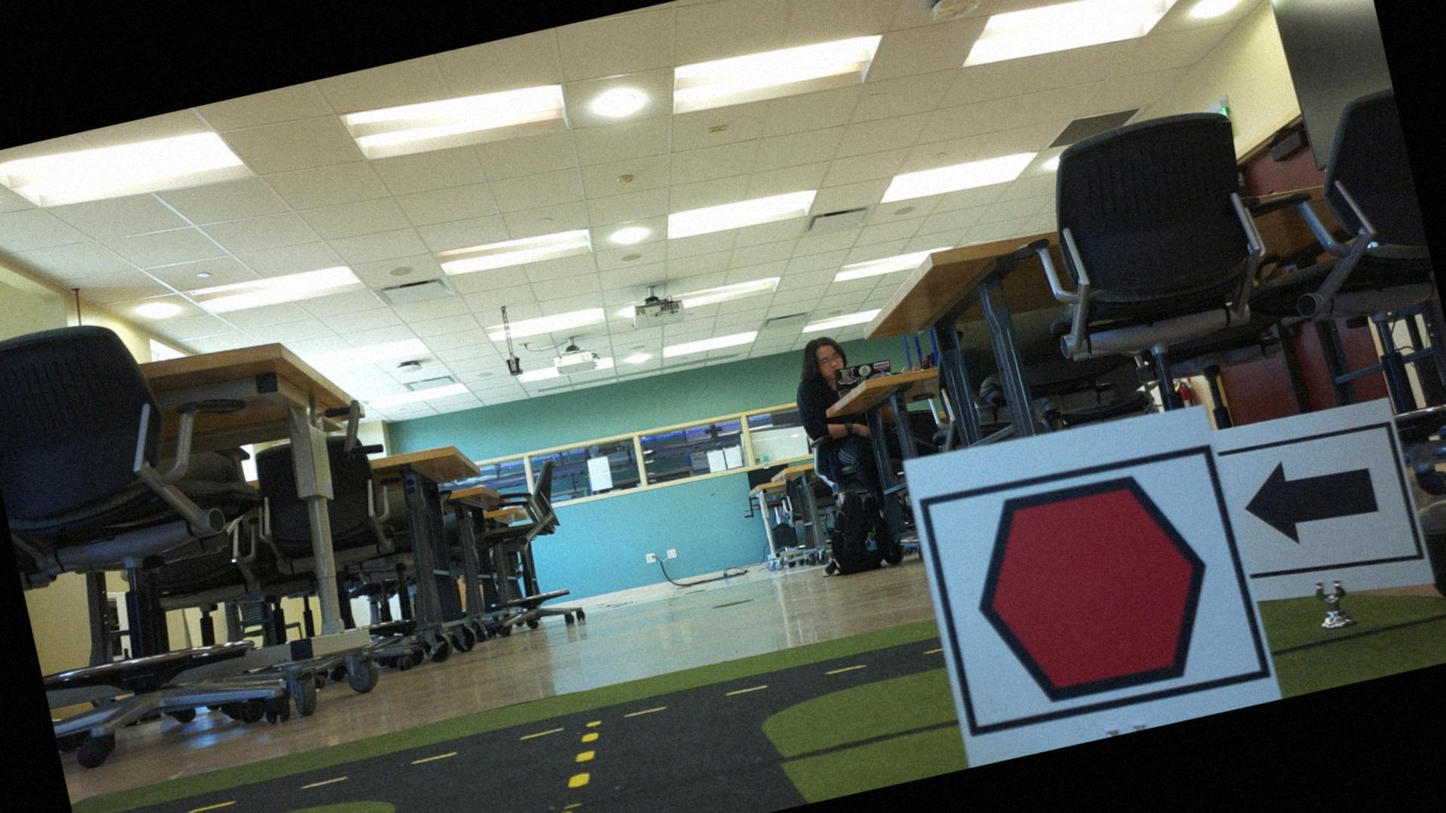stop: (941, 448, 1241, 730)
turnright: (1222, 429, 1414, 577)
yellowline: (506, 731, 618, 812)
